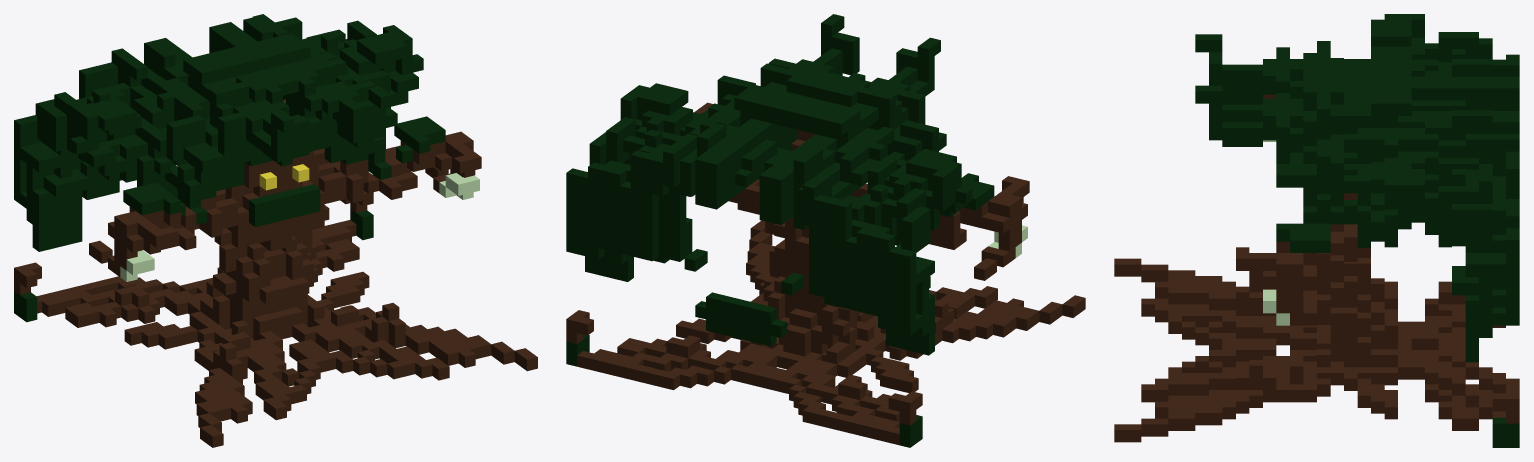
Rendered from Diego_Martínez_Rodríguez_fase_4.obj.
3 renders of one model, left to right at view 1: azimuth 30°, elevation 25°; view 2: azimuth 150°, elevation 25°; view 3: azimuth 270°, elevation 25°, orthographic. The views are drawn at different scales.
Parts seen in each view (by area): view 1: Diego_Martínez_Rodríguez_fase_4; view 2: Diego_Martínez_Rodríguez_fase_4; view 3: Diego_Martínez_Rodríguez_fase_4.
Boxes of the visible parts, x1,y1,x2,y2 form: Diego_Martínez_Rodríguez_fase_4: (14,14,537,447); Diego_Martínez_Rodríguez_fase_4: (566,14,1085,447); Diego_Martínez_Rodríguez_fase_4: (1114,14,1519,447).
Bounding box in the file's own units: 32 × 24 × 30.
1 material, 1 textured.
